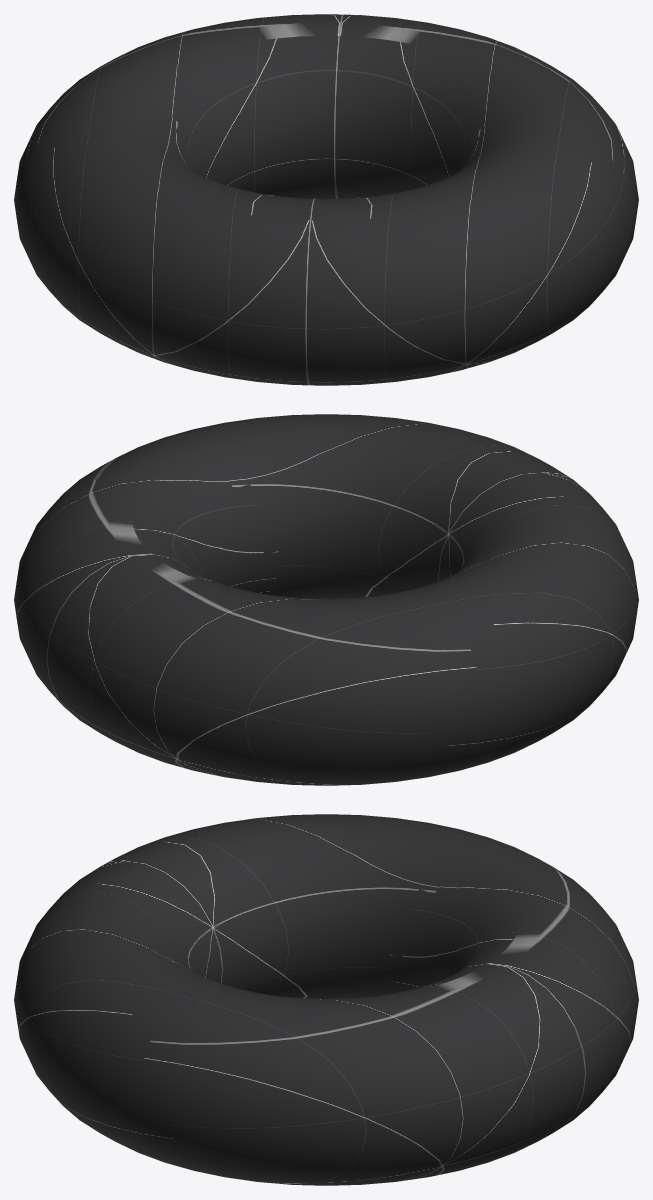
3 views of the same model, one above another, from view 1: azimuth 30°, elevation 25°; view 2: azimuth 150°, elevation 25°; view 3: azimuth 270°, elevation 25° (orthographic).
Visible parts, largest first — view 1: Torus; view 2: Torus; view 3: Torus.
Boxes of the visible parts, bbox=[...] form: Torus: bbox=[14, 14, 638, 385]; Torus: bbox=[14, 414, 638, 785]; Torus: bbox=[14, 814, 638, 1185].
Bounding box in the file's own units: 1 × 0.3 × 1.
Materials: 1 (1 with a texture image).
